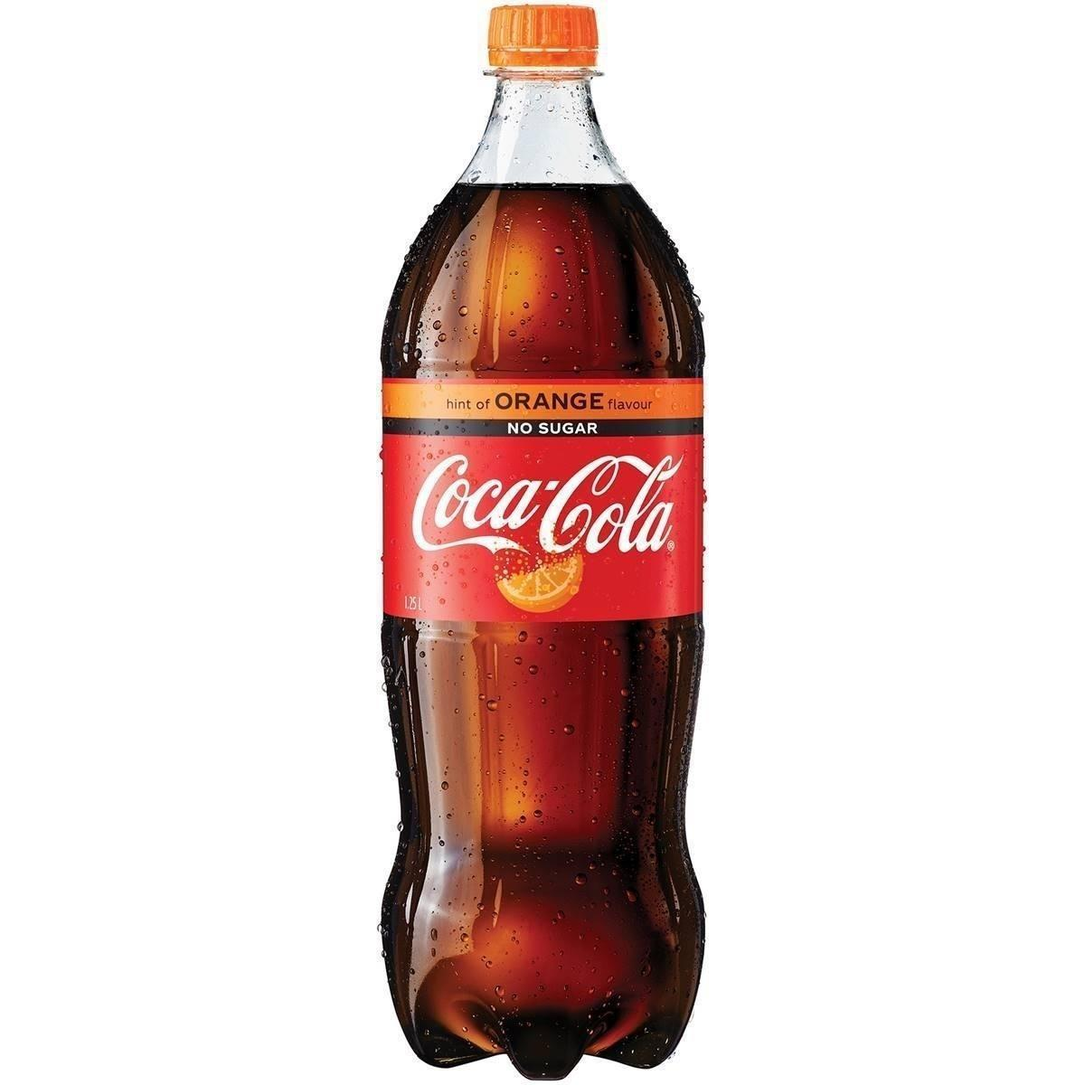bottle-plastic: (363, 0, 720, 1084)
